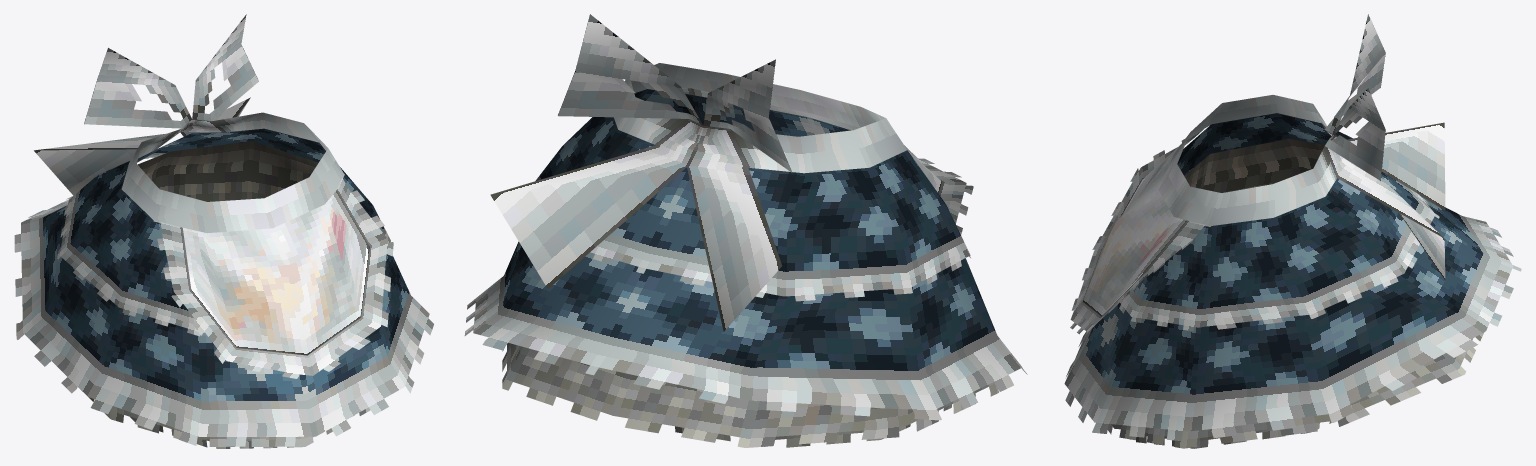
Rendered from f_wst201.glb.
The picture shows the model from 3 angles, left to right: view 1: azimuth 30°, elevation 25°; view 2: azimuth 150°, elevation 25°; view 3: azimuth 270°, elevation 25°; orthographic projection. The views are drawn at different scales.
Size of the model in its own units: 64.14 by 58.21 by 66.67.
1 material, 1 textured.
